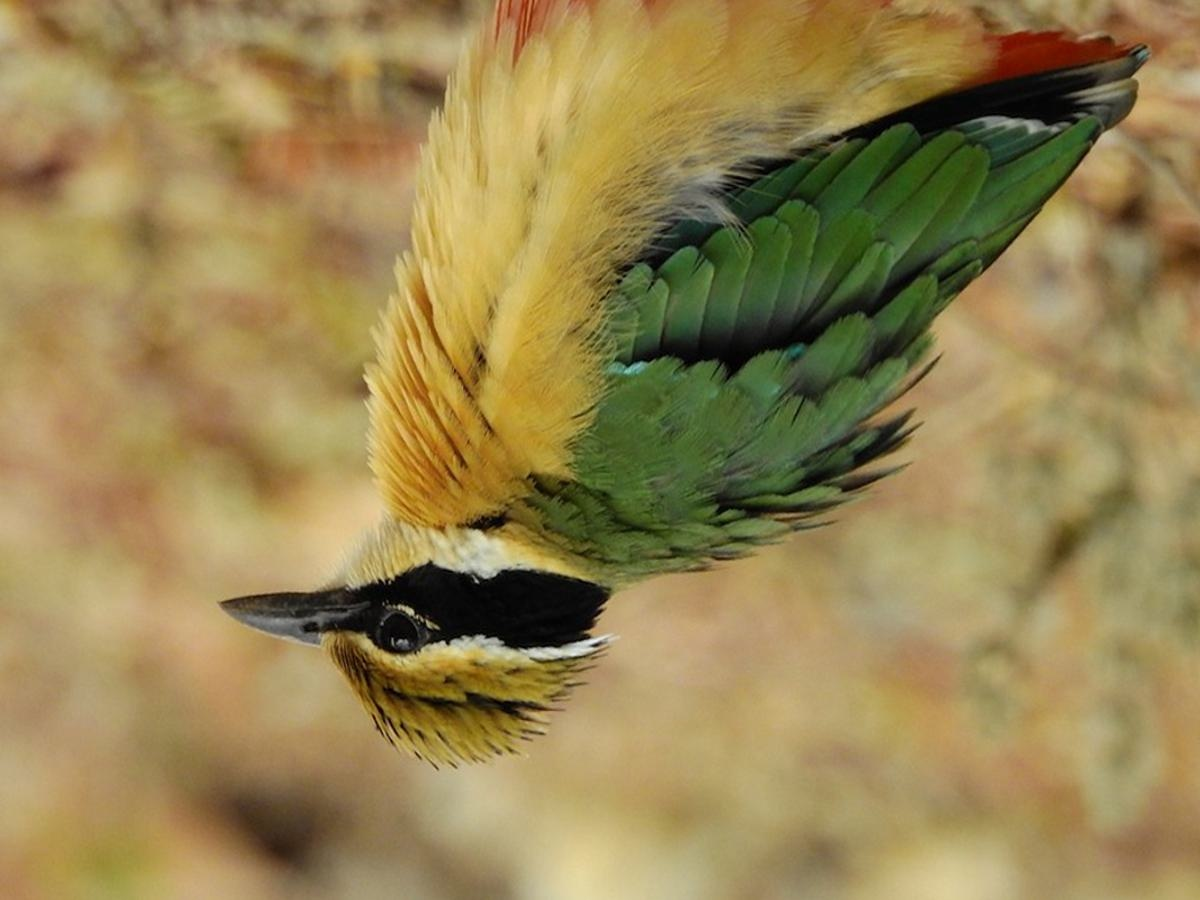pitta: (246, 1, 1069, 794)
